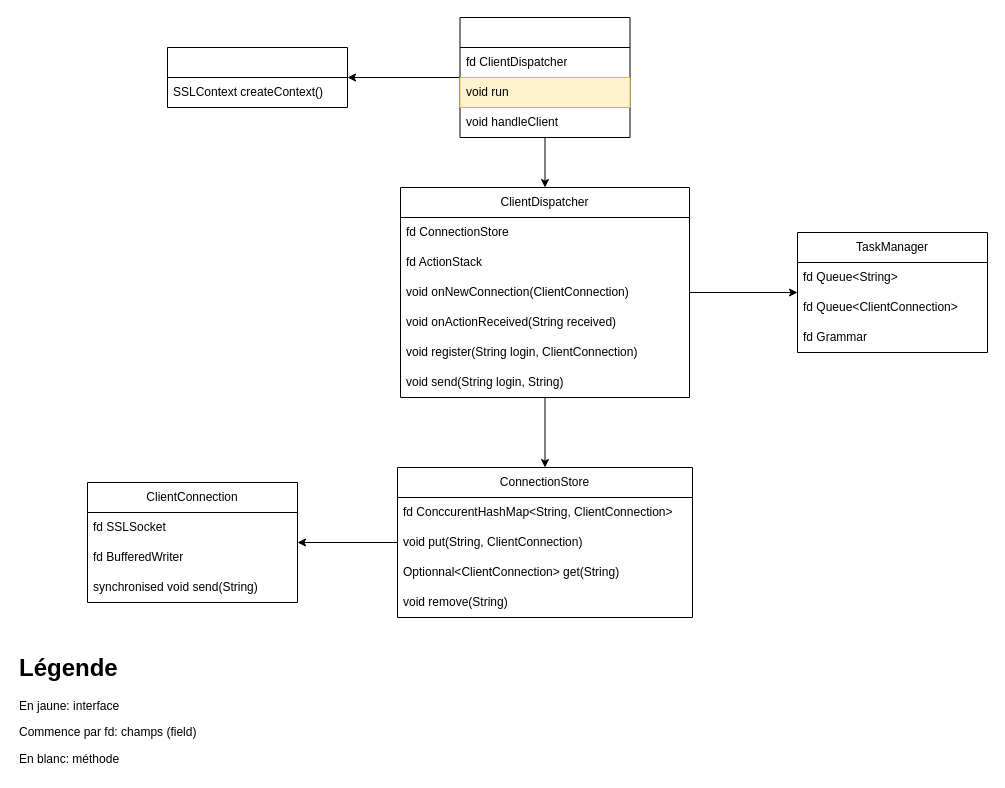
Some shapes in this 1005 by 788 pixel diagram are drawn without their labels. Each missing label, with the box of its shape:
TLSContextFactory: (166, 46, 348, 108)
TLSServer : Runnable: (459, 16, 630, 138)
